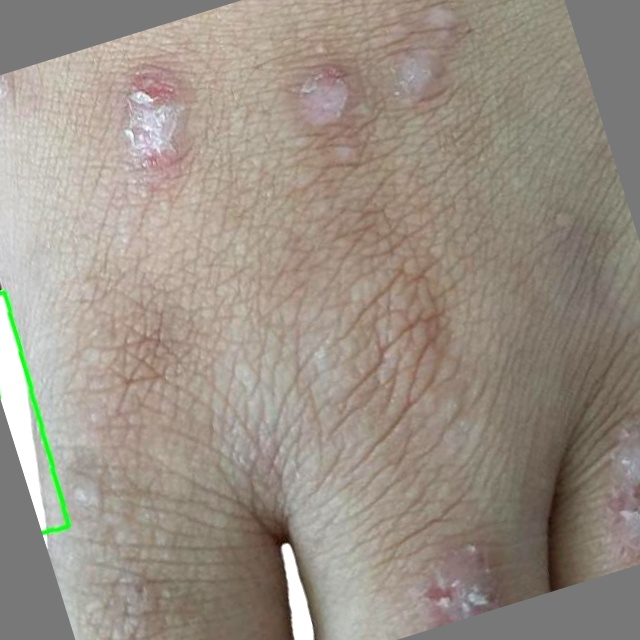Contact Dermatitis: (0, 292, 68, 534)
